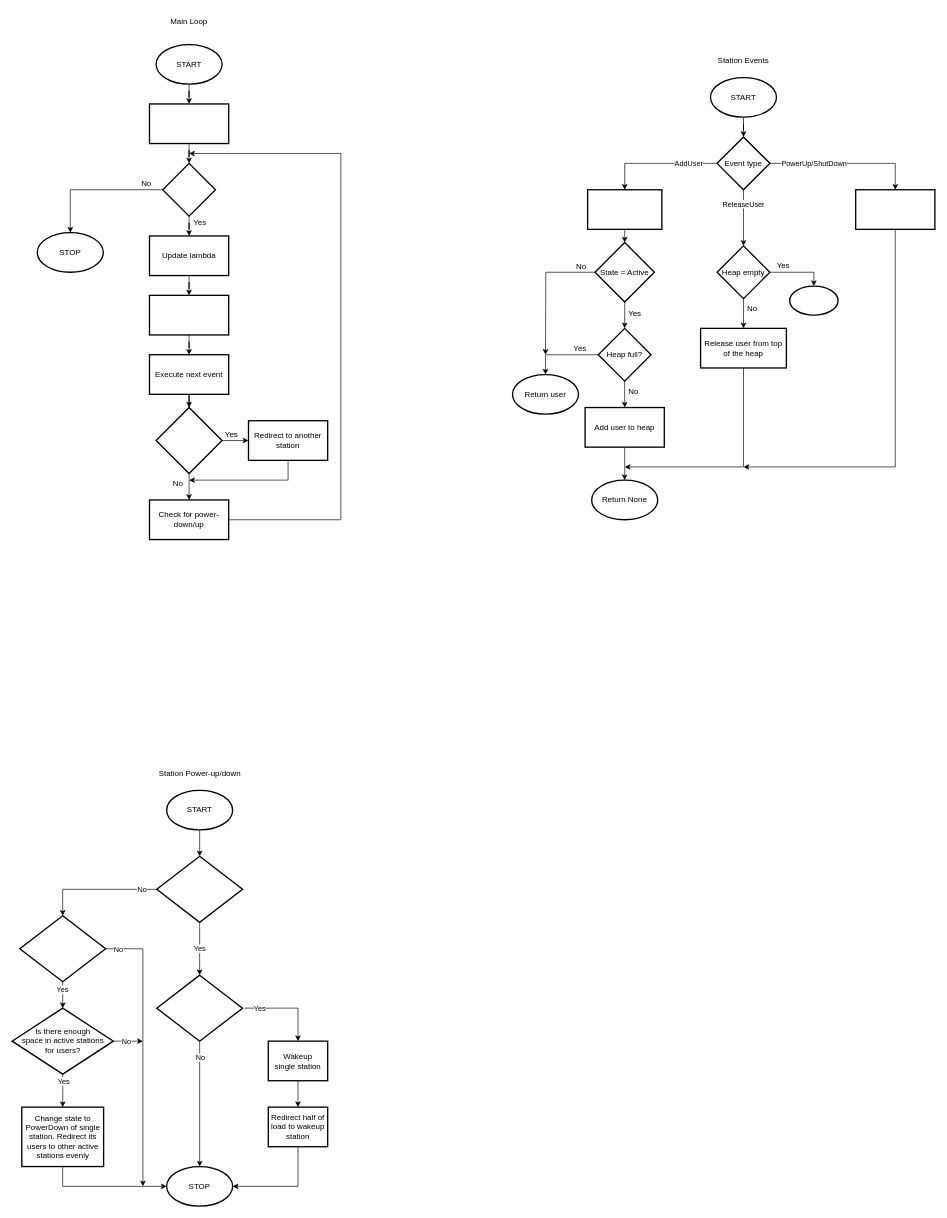
Image size: 947x1218. Some labels were removed from this diagram. Here are the shapes that lost their labels. From the top down, the centre of each, then its label:
(x=188, y=123): Initialize simulation state
(x=189, y=189): time < duration
(x=624, y=209): Generate new user and timestamp for next one
(x=895, y=209): state = Active/Sleep
(x=188, y=314): Select next event Update time
(x=813, y=300): Panic
(x=188, y=440): Event returned User
(x=199, y=889): Any station with load > 80%
(x=62, y=948): Any station with load < 20%
(x=199, y=1007): Any station in sleep state?
